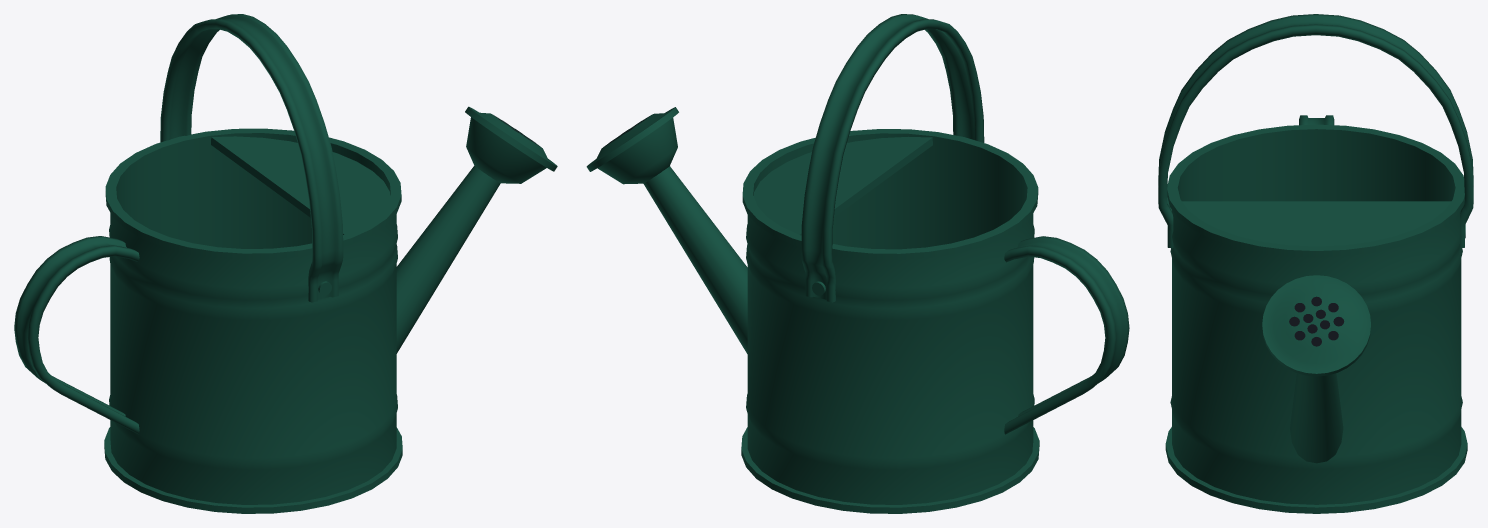
File: WateringCan.fbx
The picture shows the model from 3 angles, left to right: view 1: azimuth 30°, elevation 25°; view 2: azimuth 150°, elevation 25°; view 3: azimuth 270°, elevation 25°; orthographic projection.
Parts seen in each view (by area): view 1: WateringCan; view 2: WateringCan; view 3: WateringCan.
Part boxes in pixels (x1,y1,x2,y2): WateringCan: [14, 14, 557, 513]; WateringCan: [586, 14, 1129, 513]; WateringCan: [1158, 14, 1473, 513].
Bounding box in the file's own units: 1.53 × 1.18 × 0.785.
